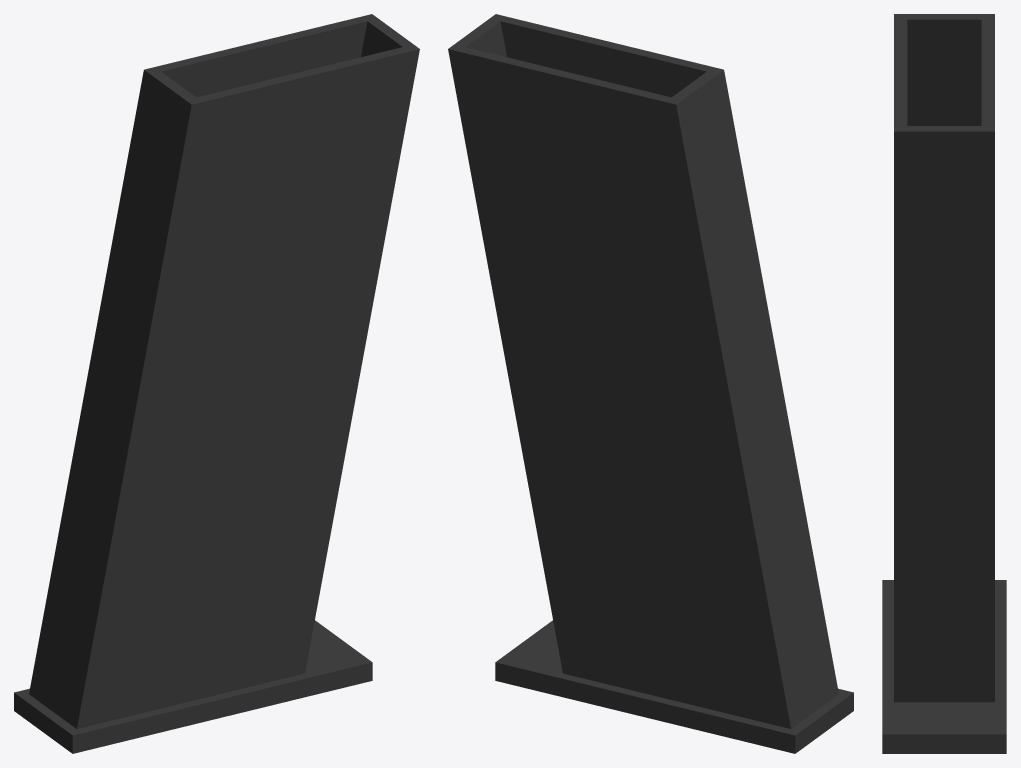
The model's file is Pistol3_01_3.fbx.
The picture shows the model from 3 angles, left to right: view 1: azimuth 30°, elevation 25°; view 2: azimuth 150°, elevation 25°; view 3: azimuth 270°, elevation 25°; orthographic projection. The views are drawn at different scales.
Parts seen in each view (by area): view 1: Pistol3_01_3; view 2: Pistol3_01_3; view 3: Pistol3_01_3.
Boxes of the visible parts, x1,y1,x2,y2 form: Pistol3_01_3: (14,14,419,753); Pistol3_01_3: (448,14,853,753); Pistol3_01_3: (882,14,1006,753).
Size of the model in its own units: 0.0918 by 0.1529 by 0.0265.
